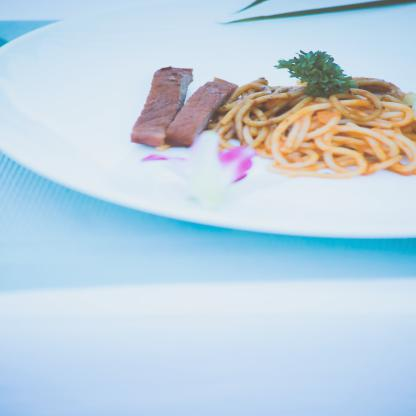Carne: (133, 60, 198, 150), (169, 74, 229, 148)
